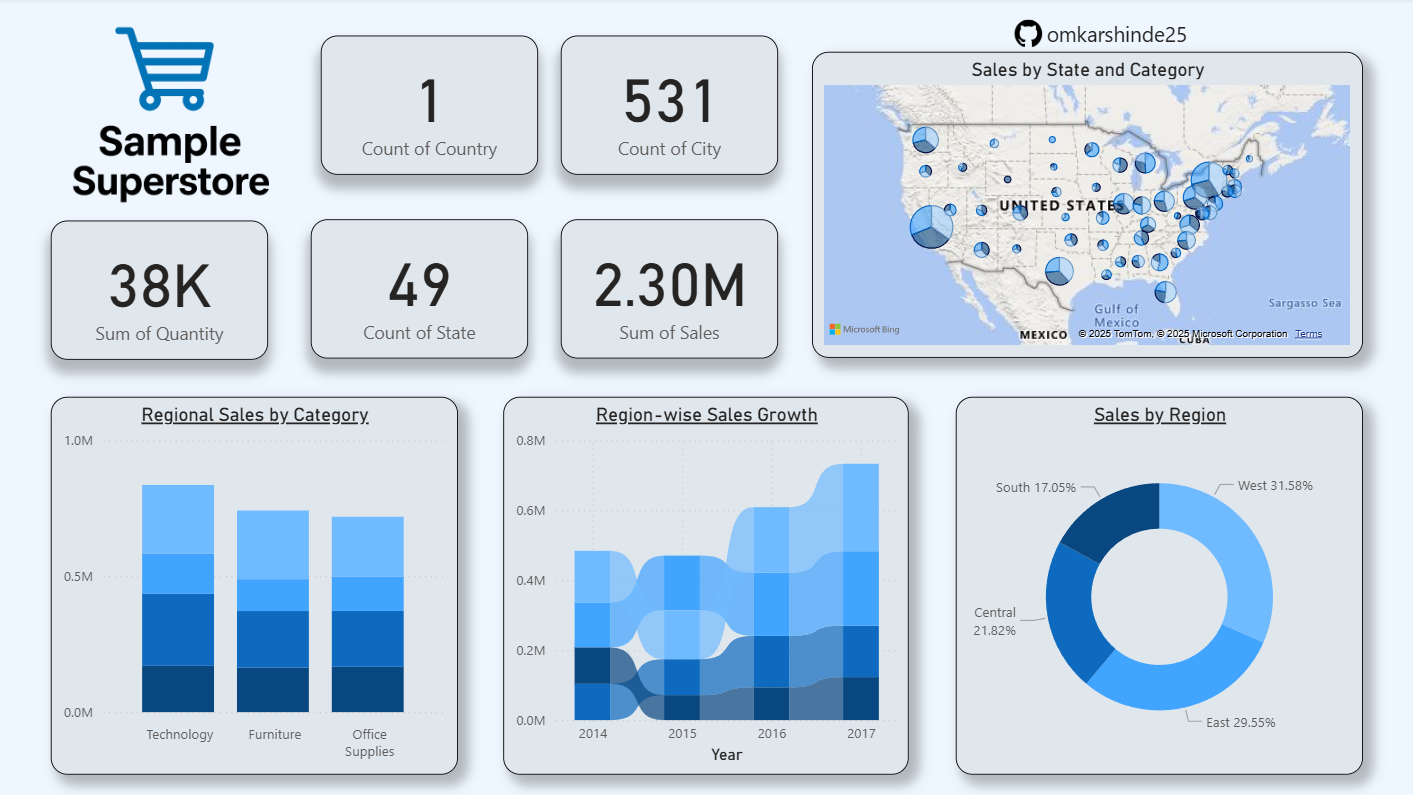

The dashboard page shown, as its layout file describes it:
{"tool":"powerbi","page":{"name":"Dashboard","canvas":[1280,720],"ordinal":0},"visuals":[{"type":"donutChart","title":"Sales by Region","fields":{"Category":["Orders.Region"],"Y":["Sum(Orders.Sales)"]},"box":[864.5,359.5,366.8,341.2],"z":0},{"type":"map","title":"Sales by State and Category","fields":{"Category":["Orders.State"],"Series":["Orders.Category"],"Size":["Sum(Orders.Sales)"]},"box":[734.9,48.9,496.5,276.4],"z":1000},{"type":"ribbonChart","title":"Region-wise Sales Growth","fields":{"Y":["Sum(Orders.Sales)"],"Category":["Orders.Order Date.Variation.Date Hierarchy.Year"],"Series":["Orders.Region"]},"box":[456.1,359.5,365.6,341.2],"z":2000},{"type":"columnChart","title":"Regional Sales by Category","fields":{"Y":["Sum(Orders.Sales)"],"Category":["Orders.Category"],"Series":["Orders.Region"]},"box":[48.9,359.5,366.8,341.2],"z":3000},{"type":"card","fields":{"Values":["Sum(Orders.Sales)"]},"box":[508.7,199.3,195.7,126],"z":4000},{"type":"card","fields":{"Values":["Sum(Orders.Quantity)"]},"box":[48.9,200.5,195.7,126],"z":5000},{"type":"card","fields":{"Values":["Count(Orders.State)"]},"box":[282.5,199.3,195.7,126],"z":6000},{"type":"card","fields":{"Values":["Count(Orders.City)"]},"box":[508.7,34.2,195.7,126],"z":7000},{"type":"image","box":[37.9,0,233.6,217.7],"z":8000},{"type":"textbox","box":[772.8,14.7,473.2,172.4],"z":9000},{"type":"image","box":[909.8,14.7,41.6,34.2],"z":10000},{"type":"card","fields":{"Values":["Count(Orders.Country)"]},"box":[292.3,34.2,195.7,126],"z":11000}]}

Visuals, with their boxes in screenshot pixels (x1, y1, x2, y2), scaled from the page's 1280x720 canvas onto the 1413x795 screenshot:
"Sales by Region" donutChart: 954, 397, 1359, 774
"Sales by State and Category" map: 811, 54, 1359, 359
"Region-wise Sales Growth" ribbonChart: 503, 397, 907, 774
"Regional Sales by Category" columnChart: 54, 397, 459, 774
card - Sum(Orders.Sales): 562, 220, 778, 359
card - Sum(Orders.Quantity): 54, 221, 270, 361
card - Count(Orders.State): 312, 220, 528, 359
card - Count(Orders.City): 562, 38, 778, 177
image: 42, 0, 300, 240
textbox: 853, 16, 1375, 207
image: 1004, 16, 1050, 54
card - Count(Orders.Country): 323, 38, 539, 177
